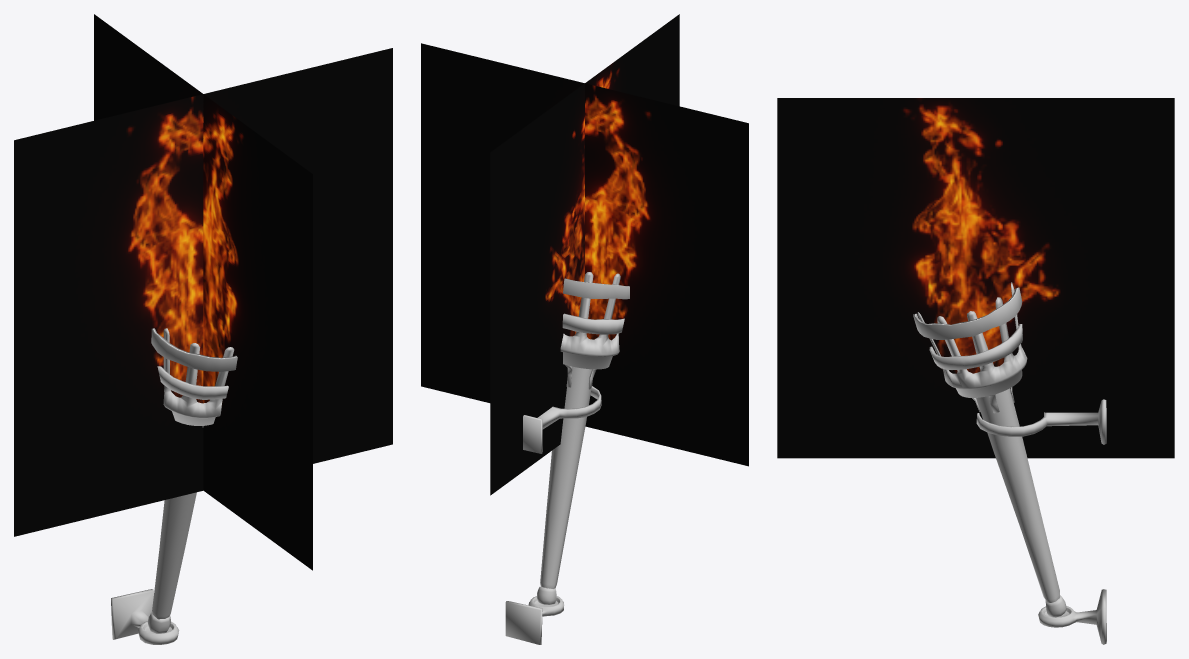
File: Torch_LP.fbx
3 renders of one model, left to right at view 1: azimuth 30°, elevation 25°; view 2: azimuth 150°, elevation 25°; view 3: azimuth 270°, elevation 25°, orthographic. The views are drawn at different scales.
Visible parts, largest first — view 1: flame, Torch; view 2: flame, Torch; view 3: flame, Torch.
Boxes of the visible parts, left/top/right/bottom form: flame: left=14, top=14, right=392, bottom=570; Torch: left=111, top=328, right=237, bottom=644; flame: left=421, top=14, right=748, bottom=495; Torch: left=505, top=272, right=629, bottom=644; flame: left=777, top=98, right=1174, bottom=458; Torch: left=913, top=282, right=1106, bottom=644.
Bounding box in the file's own units: 1.96 × 2.93 × 1.96.
